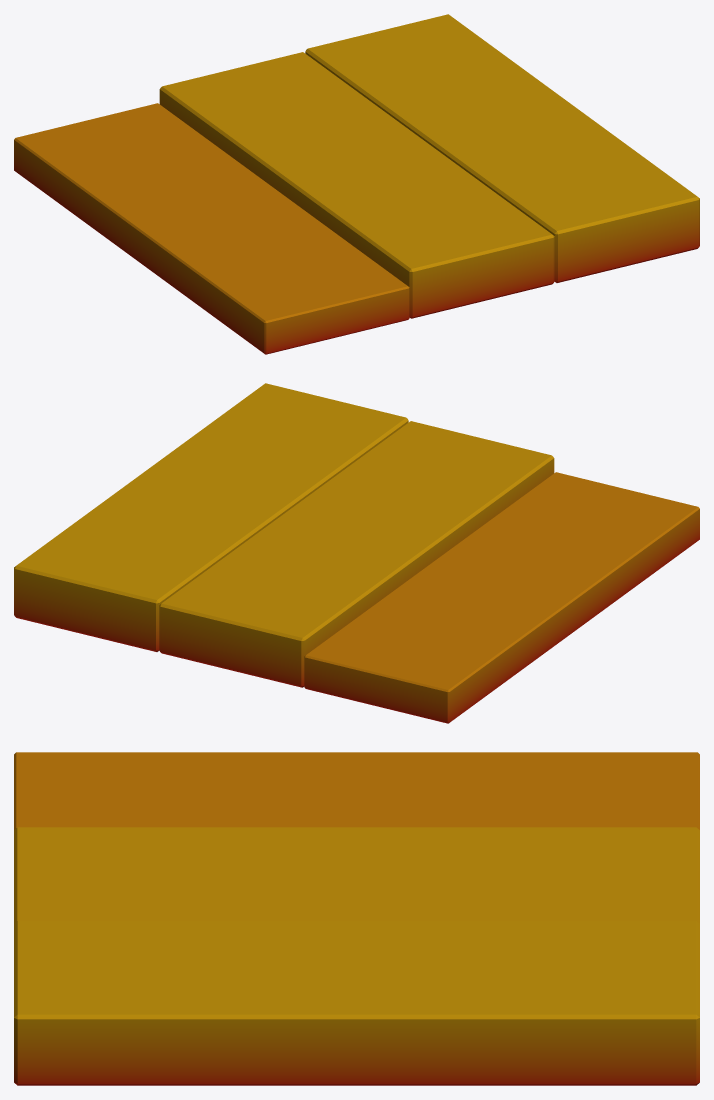
File: plinth_broken.glb
The picture shows the model from 3 angles, top to bottom: view 1: azimuth 30°, elevation 25°; view 2: azimuth 150°, elevation 25°; view 3: azimuth 270°, elevation 25°; orthographic projection. The views are drawn at different scales.
Parts seen in each view (by area): view 1: plinth_broken; view 2: plinth_broken; view 3: plinth_broken.
Part boxes in pixels (x1,y1,x2,y2): plinth_broken: (14,14,699,354); plinth_broken: (14,383,699,723); plinth_broken: (14,752,699,1085).
Size of what is drawn, in the model's own units: 8 by 0.9143 by 8.
